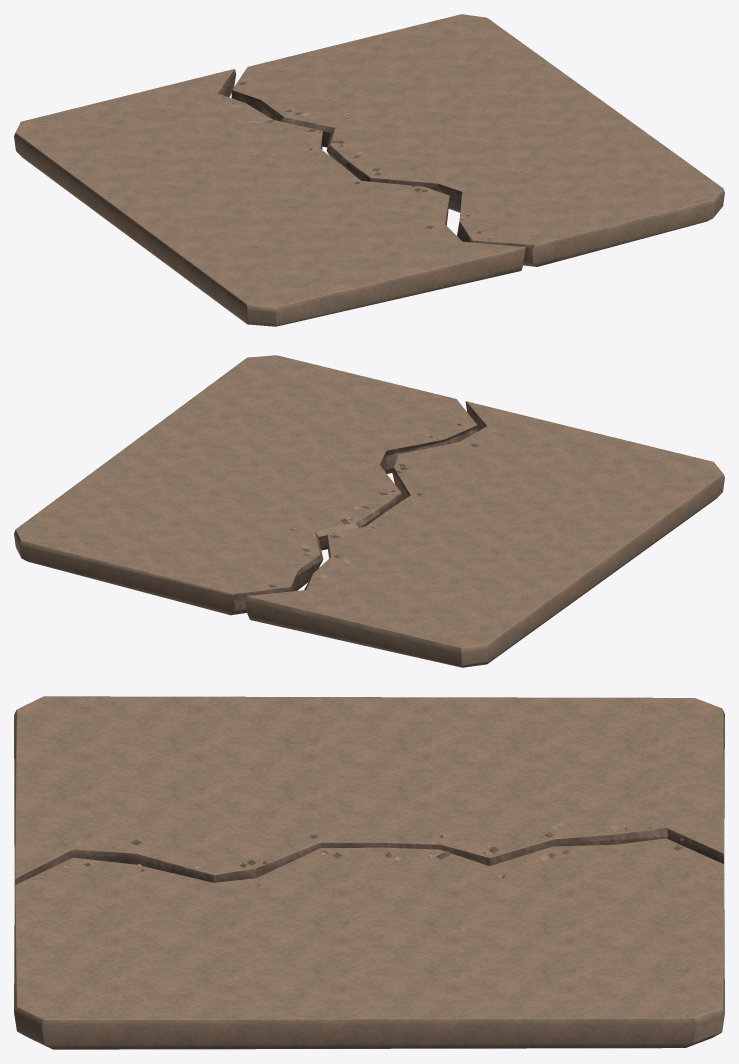
The model's file is CrackedSlabB.glb.
The picture shows the model from 3 angles, top to bottom: view 1: azimuth 30°, elevation 25°; view 2: azimuth 150°, elevation 25°; view 3: azimuth 270°, elevation 25°; orthographic projection. The views are drawn at different scales.
Parts seen in each view (by area): view 1: Sintered_regolith_warm_panel.002, Sintered_regolith_warm_panel.003; view 2: Sintered_regolith_warm_panel.003, Sintered_regolith_warm_panel.002; view 3: Sintered_regolith_warm_panel.003, Sintered_regolith_warm_panel.002.
Boxes of the visible parts, x1=… form: Sintered_regolith_warm_panel.002: x1=14, y1=69, x2=525, y2=326; Sintered_regolith_warm_panel.003: x1=231, y1=14, x2=724, y2=266; Sintered_regolith_warm_panel.003: x1=14, y1=355, x2=477, y2=615; Sintered_regolith_warm_panel.002: x1=245, y1=401, x2=724, y2=667; Sintered_regolith_warm_panel.003: x1=14, y1=838, x2=724, y2=1049; Sintered_regolith_warm_panel.002: x1=14, y1=696, x2=724, y2=885.
Size of the model in its own units: 2.42 by 0.117 by 2.24.
3 materials, 3 textured.
